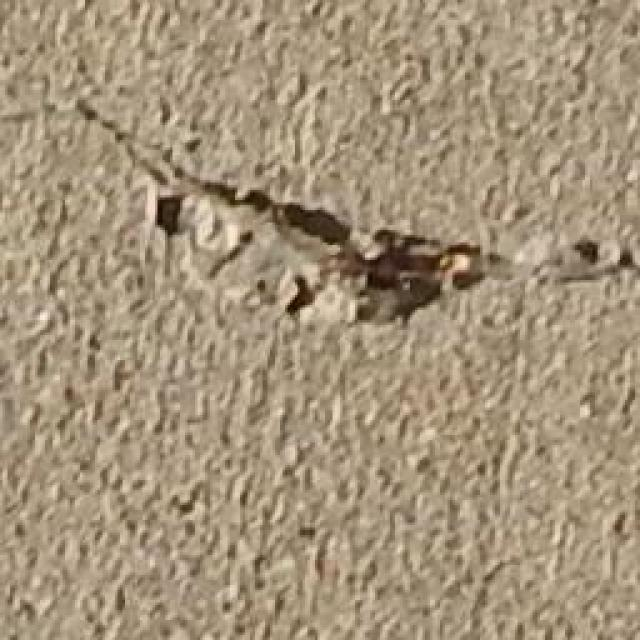concrete-crack: (73, 98, 555, 338)
